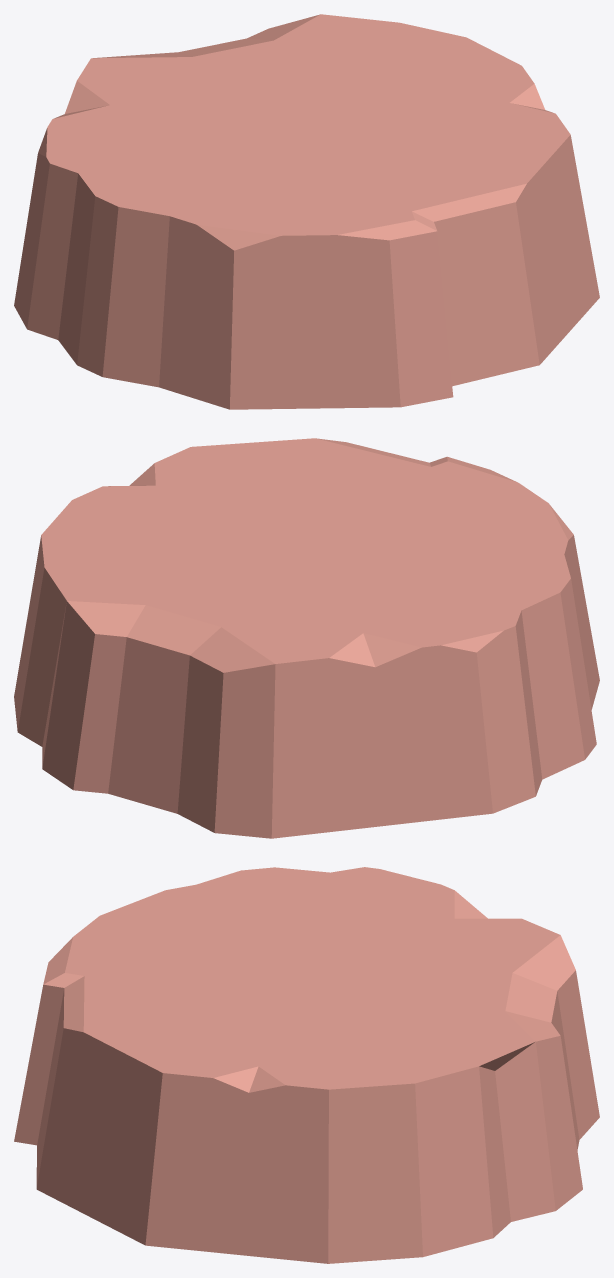
Rendered from Cylinder_006_Vlad.fbx.
The picture shows the model from 3 angles, top to bottom: view 1: azimuth 30°, elevation 25°; view 2: azimuth 150°, elevation 25°; view 3: azimuth 270°, elevation 25°; orthographic projection.
Visible parts, largest first — view 1: Cylinder.006; view 2: Cylinder.006; view 3: Cylinder.006.
Boxes of the visible parts, x1,y1,x2,y2 form: Cylinder.006: (14,14,599,409); Cylinder.006: (14,438,599,838); Cylinder.006: (14,867,599,1263).
Size of the model in its own units: 323 by 100 by 327.
